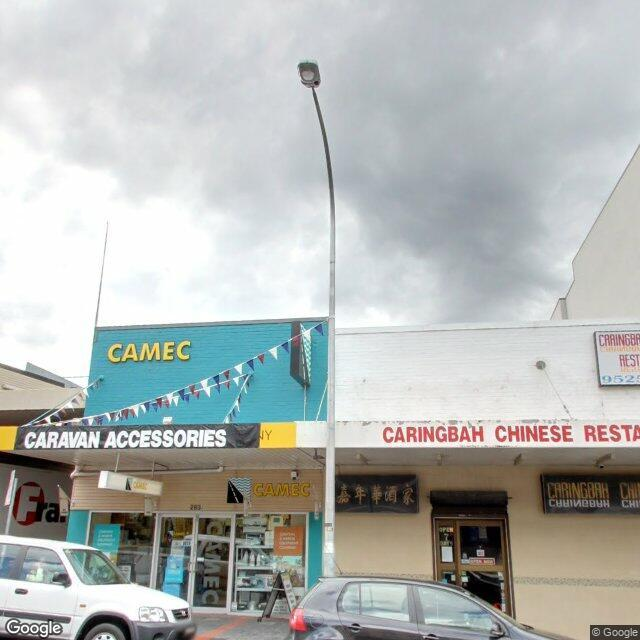steel-pole: (324, 192, 337, 580)
streetlight: (296, 59, 336, 200)
